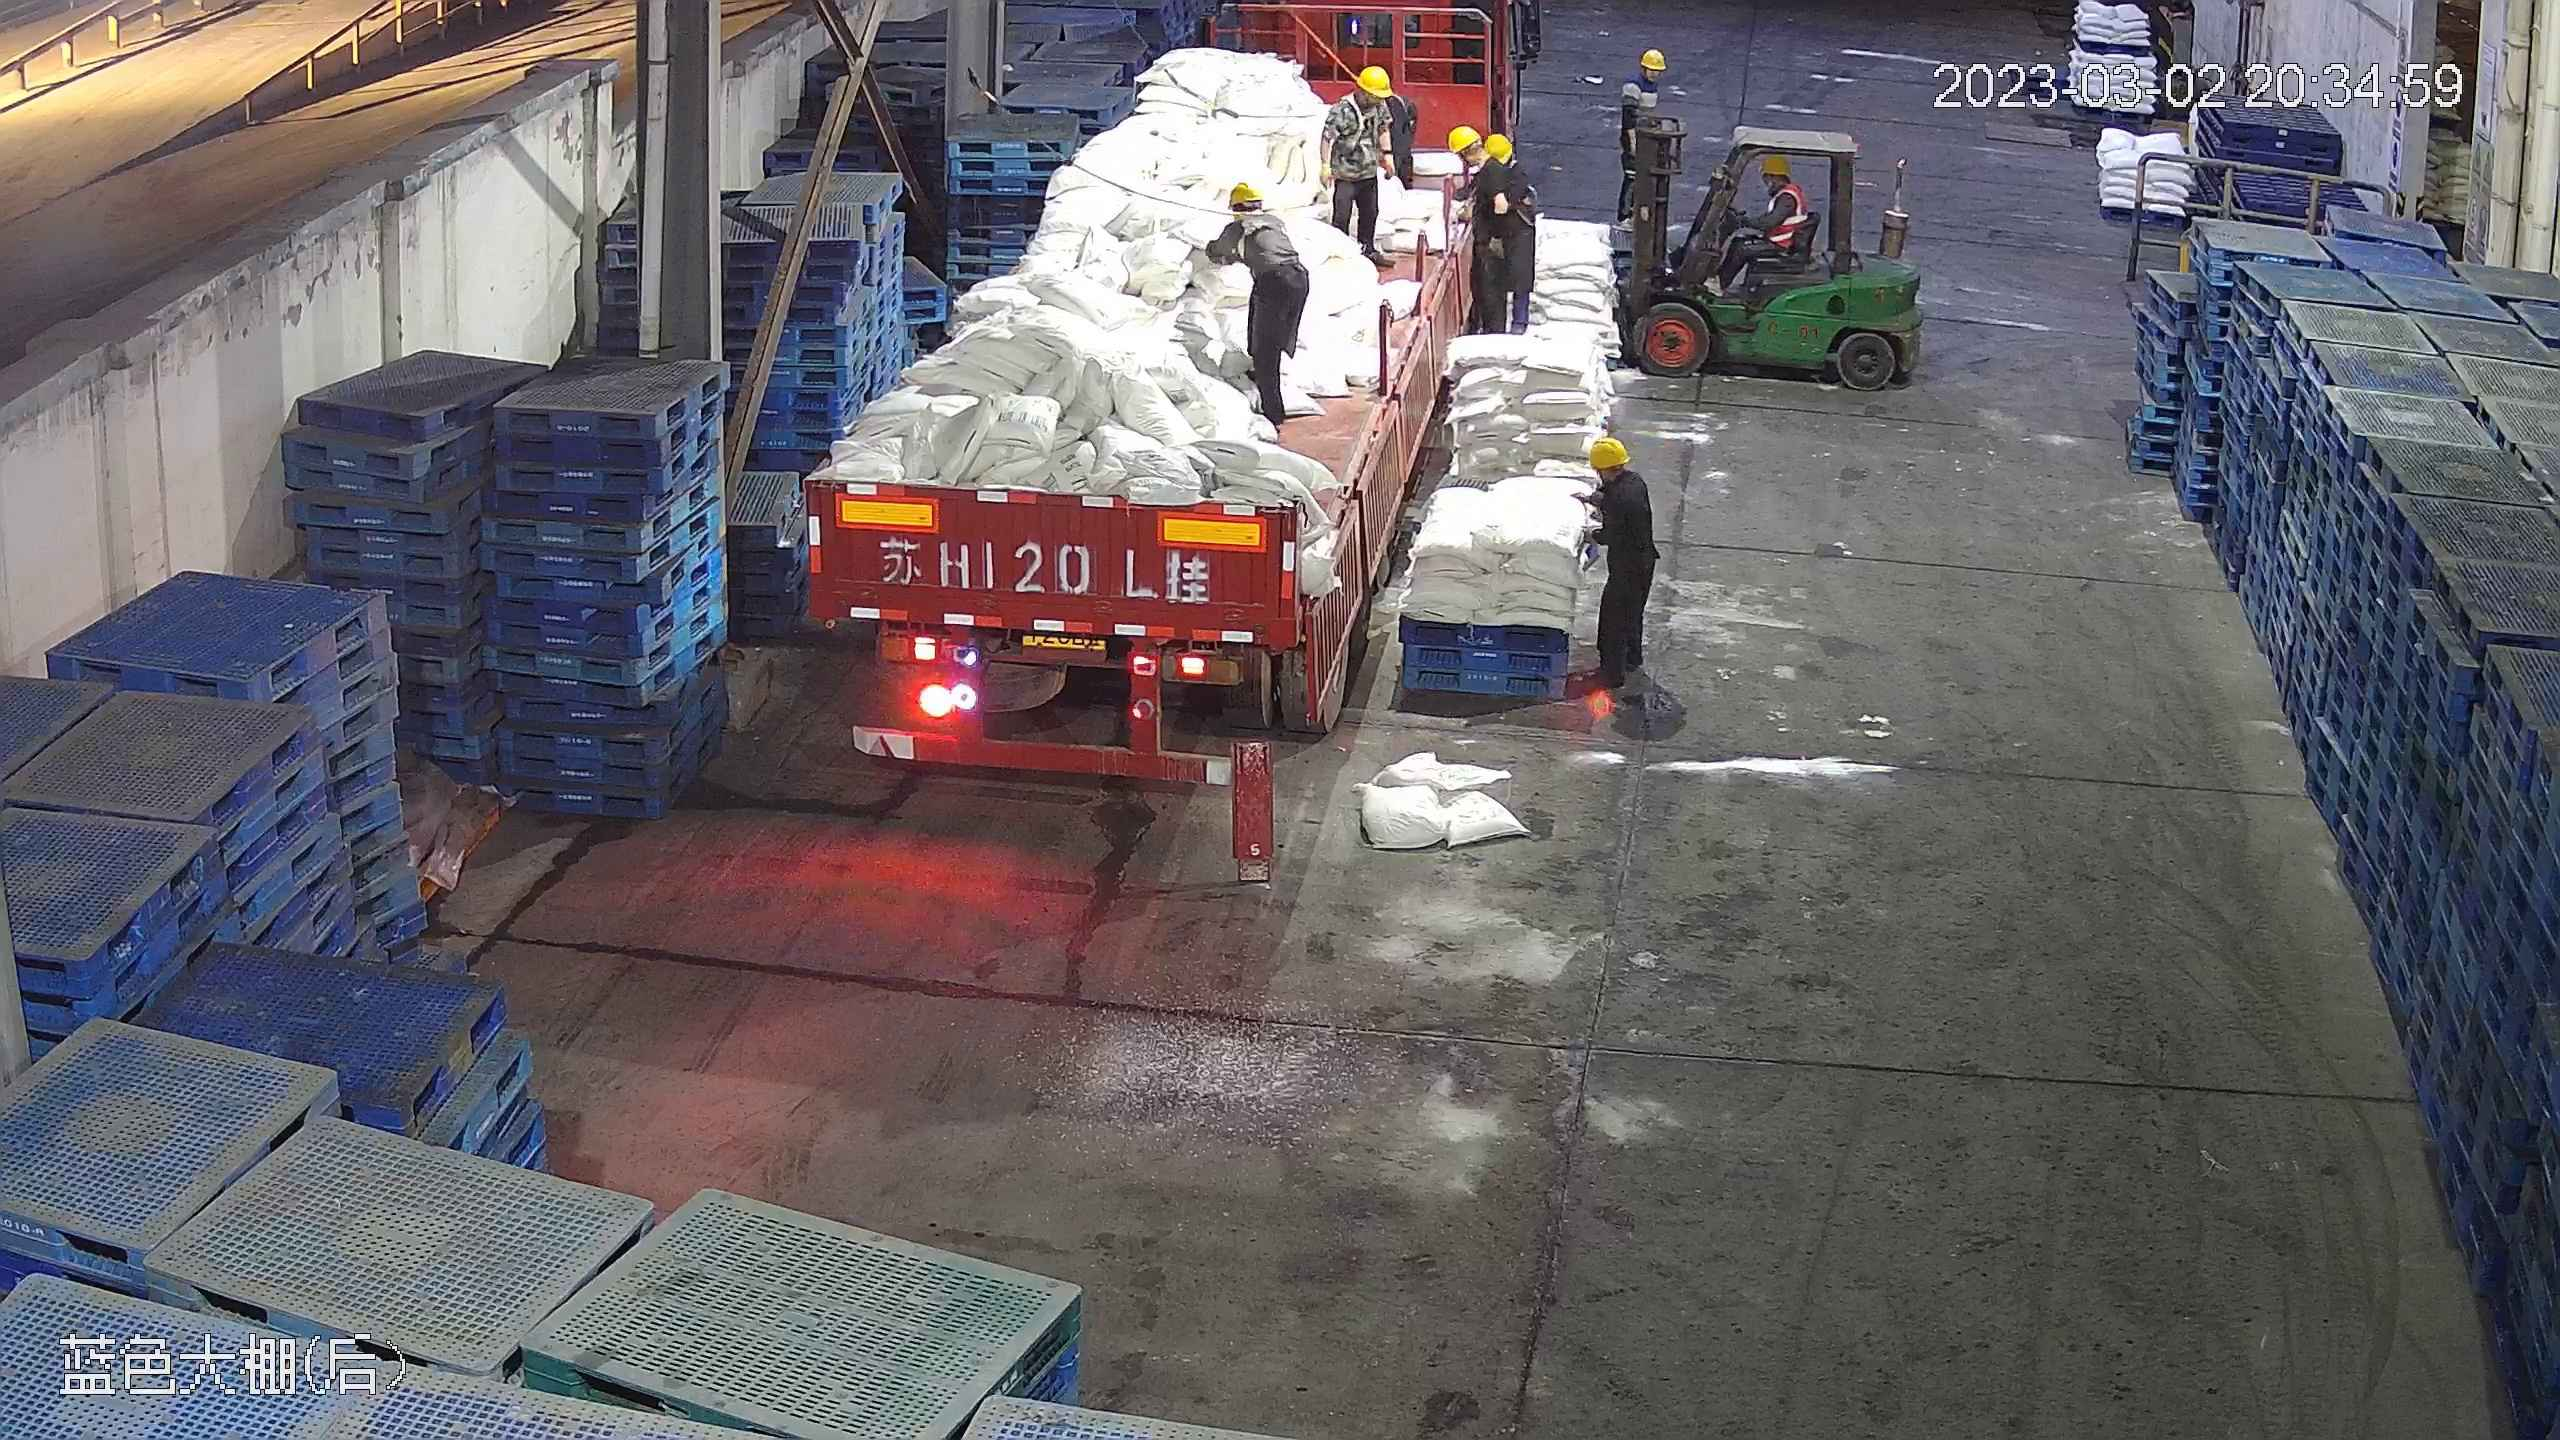belt: (1241, 208, 1296, 262), (1339, 104, 1391, 156)
head: (1580, 432, 1652, 525), (1216, 180, 1290, 251), (1326, 62, 1400, 131), (1445, 125, 1503, 189), (1621, 47, 1672, 106), (1756, 154, 1804, 212)
helmet: (1587, 432, 1633, 467), (1356, 63, 1390, 95), (1224, 178, 1262, 205), (1475, 130, 1512, 156), (1453, 127, 1485, 150), (1760, 154, 1787, 177), (1637, 49, 1666, 69)
people: (1185, 177, 1310, 425), (1575, 429, 1663, 717), (1312, 62, 1412, 265), (1473, 129, 1537, 331), (1718, 157, 1806, 293), (1617, 46, 1675, 225)
truck: (801, 13, 1498, 785)
